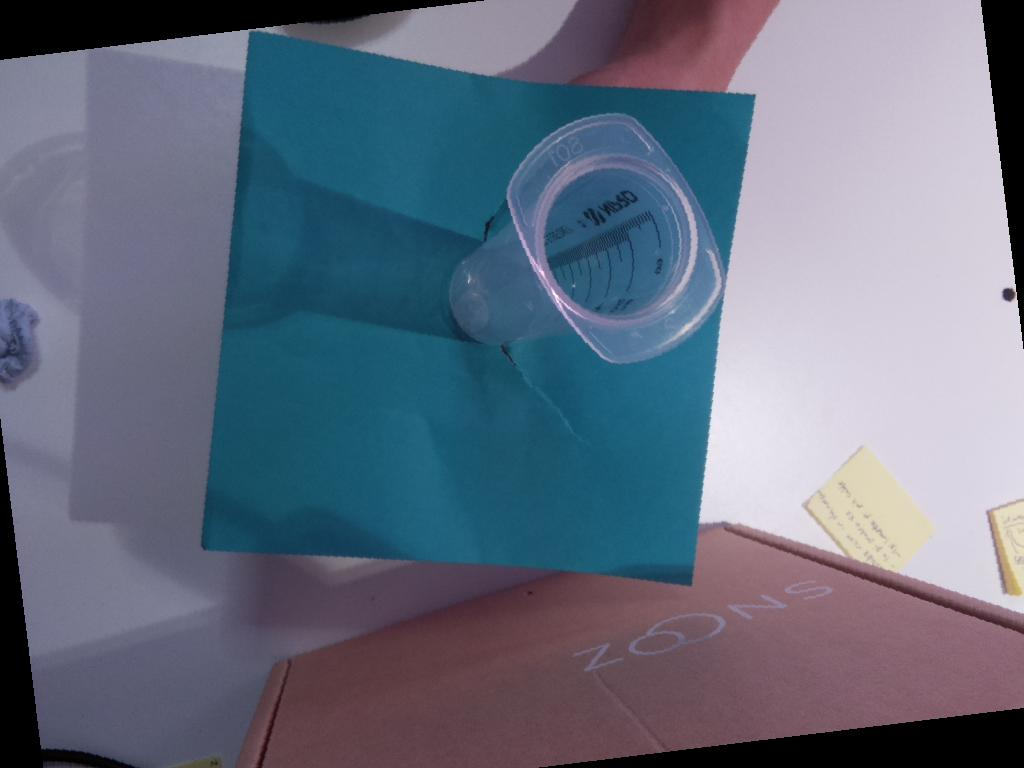clean: (503, 111, 729, 366)
